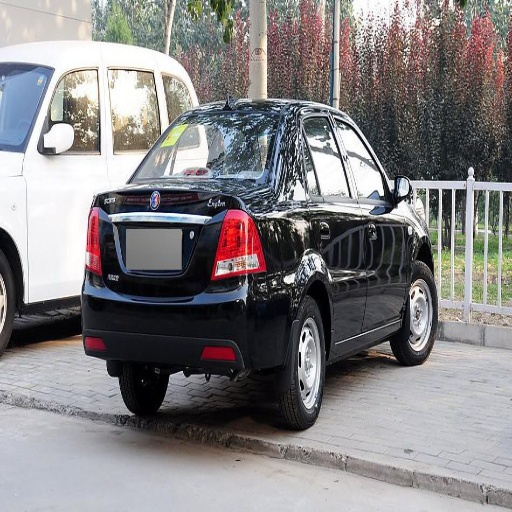back_bumper: (82, 273, 289, 375)
back_left_light: (85, 202, 111, 274)
back_right_door: (303, 108, 363, 340)
front_glass: (9, 66, 52, 113)
tailgate: (97, 179, 223, 299)
